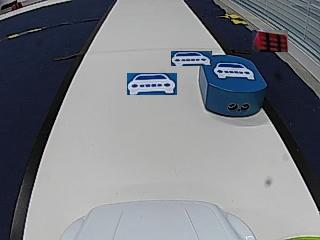safety: (213, 61, 254, 80)
